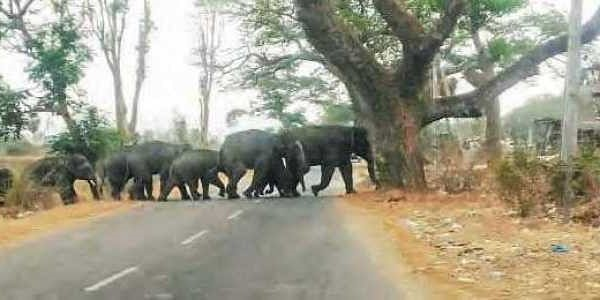Elephant: (286, 124, 377, 201), (220, 129, 303, 205), (20, 153, 100, 206), (127, 141, 195, 199), (168, 148, 226, 201), (100, 148, 134, 200)
Road: (1, 191, 441, 299)
